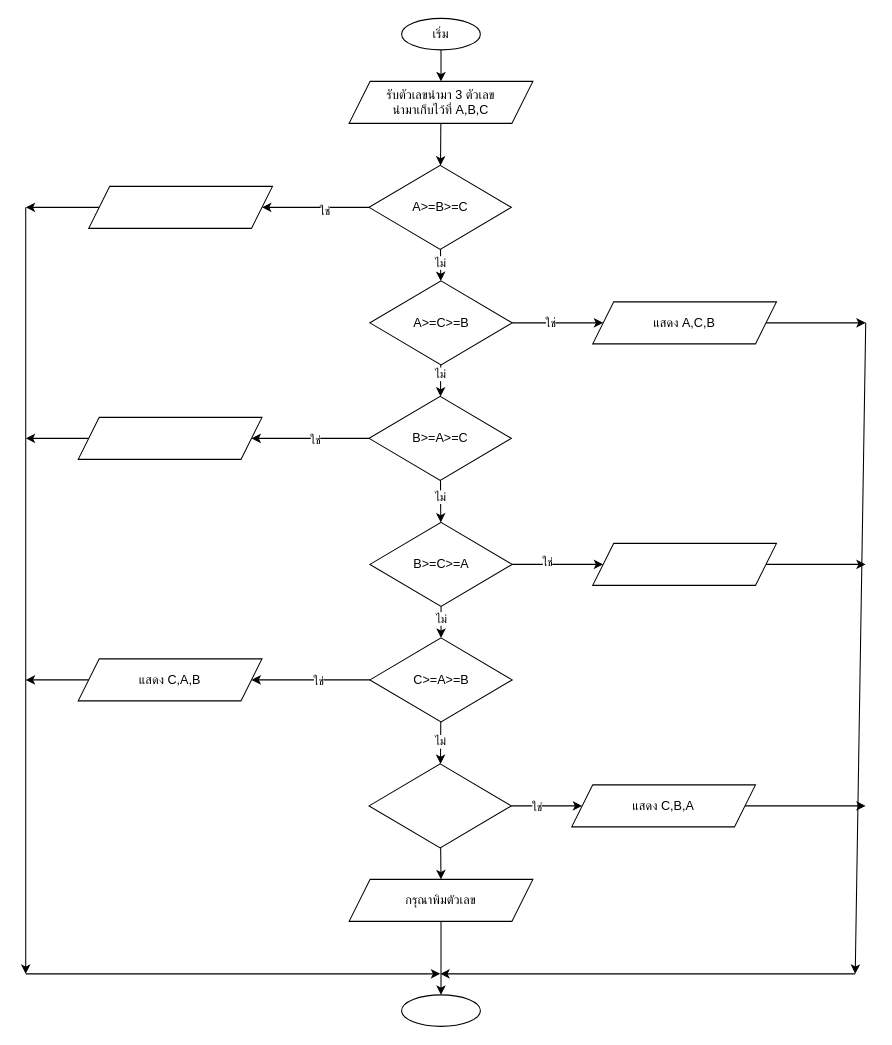
Image size: 892x1045. Some labels were removed from this diagram. Here are the shapes that lost their labels. From the top down, the centre of each, then its label:
At point 180,206: "แสดง A,B,C".
At point 169,437: "แสดง B,A,C".
At point 684,563: "แสดง B>C>A".
At point 439,805: "C>=B>=A".
At point 440,1010: "จบ".
